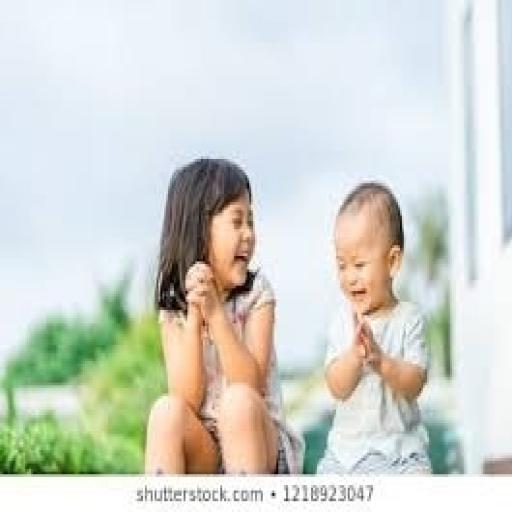clapping: (141, 154, 298, 474), (313, 178, 433, 477)
